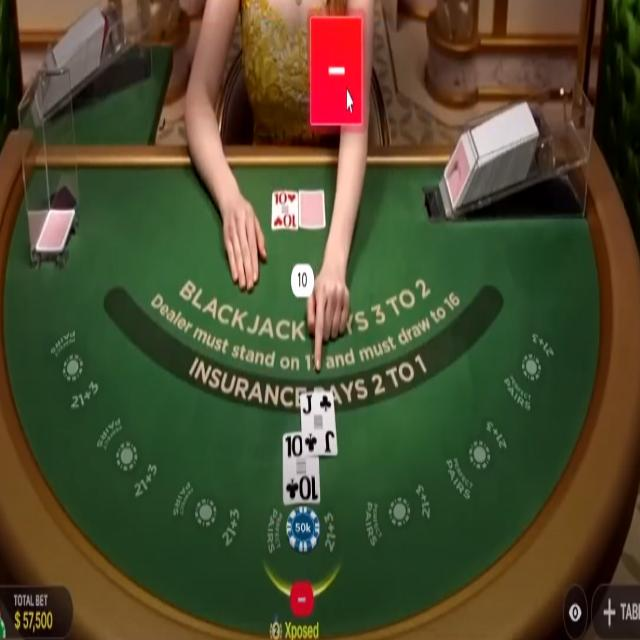Card-10: (283, 429, 320, 503), (272, 190, 298, 230)
Card-J: (300, 390, 337, 456)
